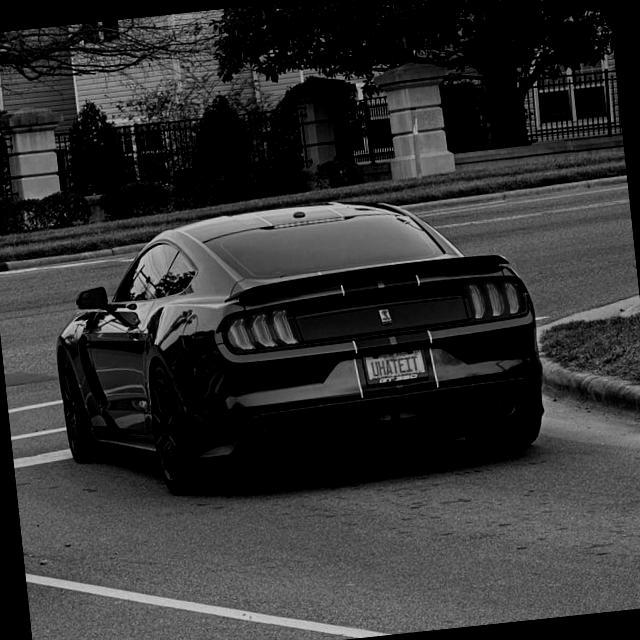LicensePlate: (360, 343, 427, 384)
